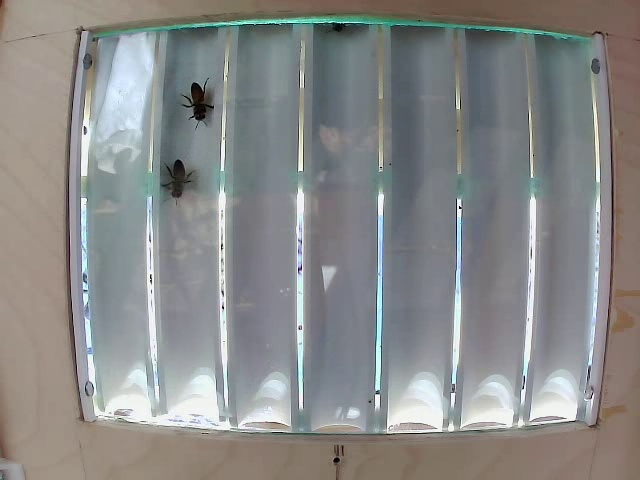bee: (181, 76, 220, 143), (158, 146, 196, 210)
